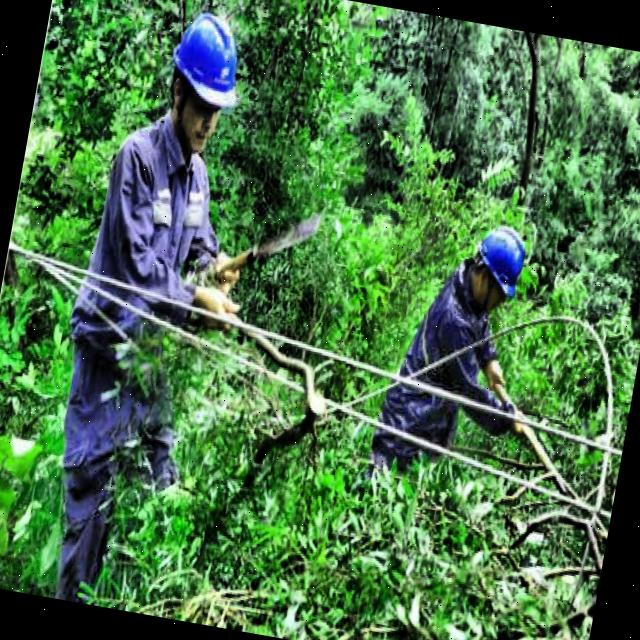helmet: (146, 0, 258, 160), (454, 216, 537, 324)
